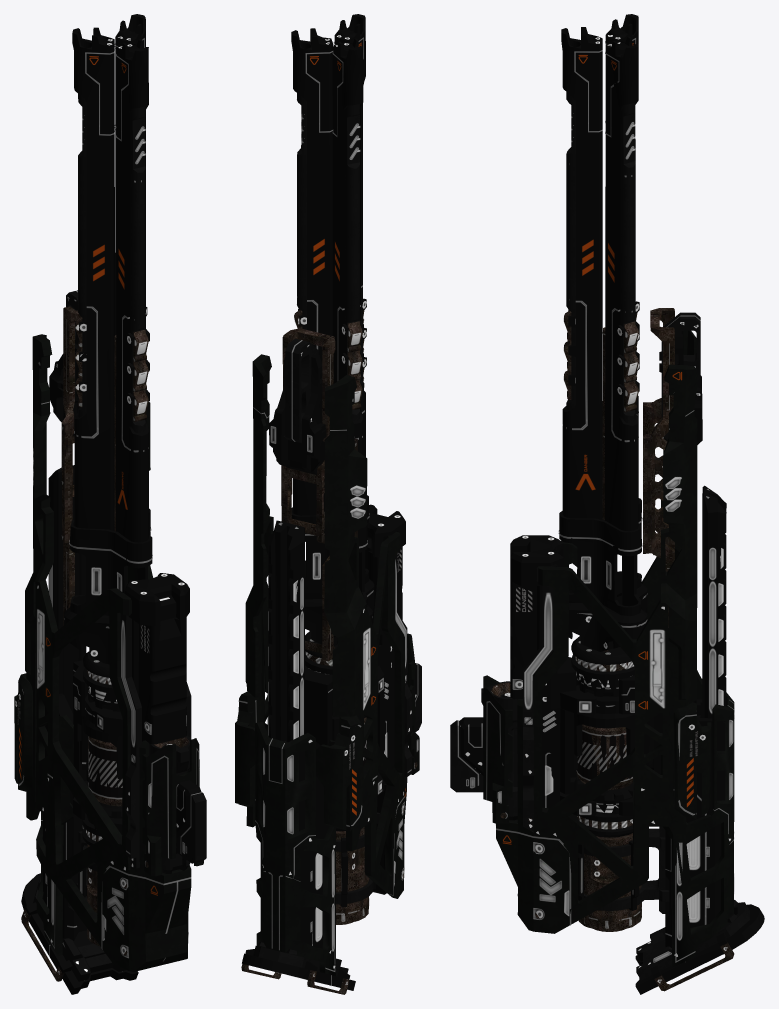
The model's file is cf-227-badger-repeater.glb.
3 renders of one model, left to right at view 1: azimuth 30°, elevation 25°; view 2: azimuth 150°, elevation 25°; view 3: azimuth 270°, elevation 25°, orthographic. The views are drawn at different scales.
Visible parts, largest first — view 1: root; view 2: root; view 3: root.
Part boxes in pixels (<box>): root: <box>14,14,206,994</box>; root: <box>235,14,421,994</box>; root: <box>450,14,764,994</box>.
Bounding box in the file's own units: 0.3114 × 2.36 × 0.7103.
Materials: 8 (8 with a texture image).
